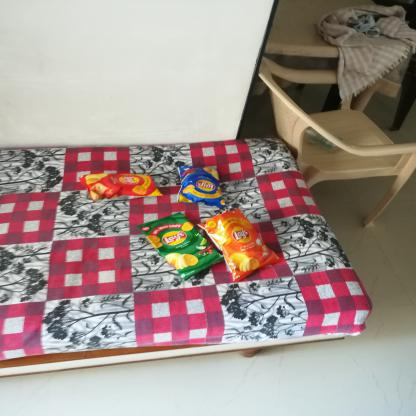chile_limon: (144, 213, 216, 279)
hot_and_sweet: (203, 208, 275, 279)
indian_magic_masala: (176, 164, 229, 208)
tangy_tomato: (78, 169, 166, 201)
